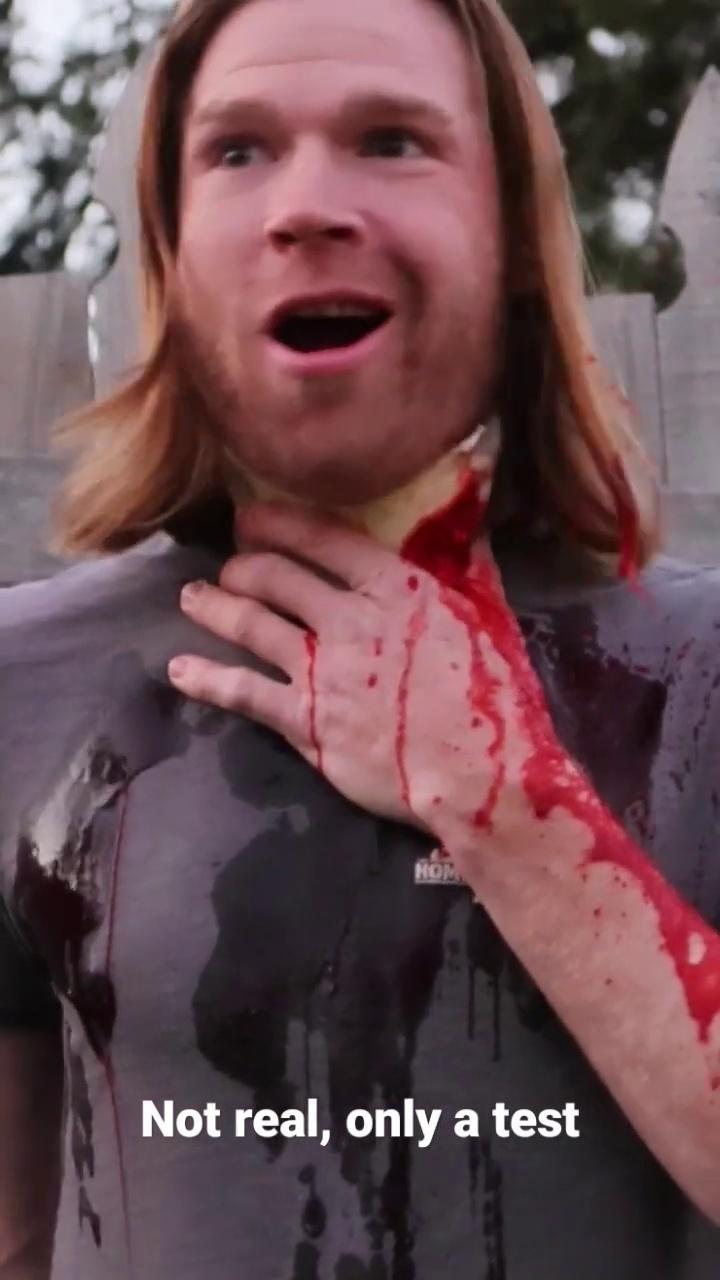Fire: (501, 649, 720, 1042), (520, 605, 666, 847), (400, 470, 536, 680), (366, 574, 427, 826), (303, 630, 329, 780)
